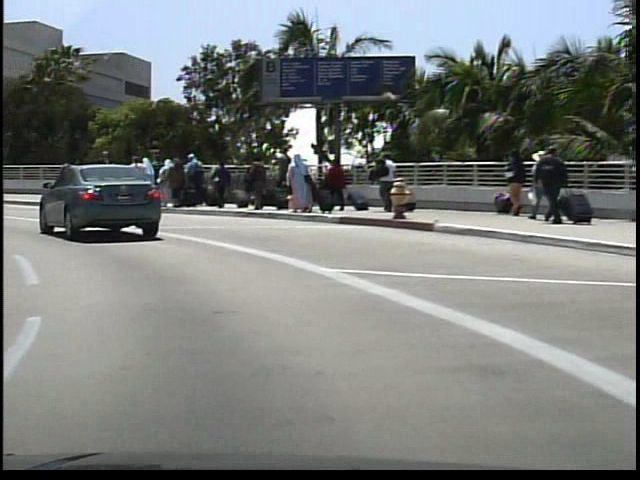person: (532, 143, 564, 225), (371, 149, 398, 213), (62, 152, 90, 211), (92, 149, 119, 207), (63, 156, 82, 197), (126, 153, 141, 167)
